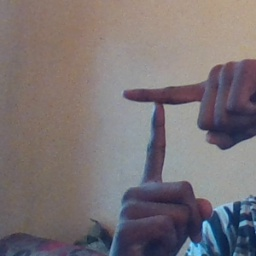T: (112, 69, 231, 198)
